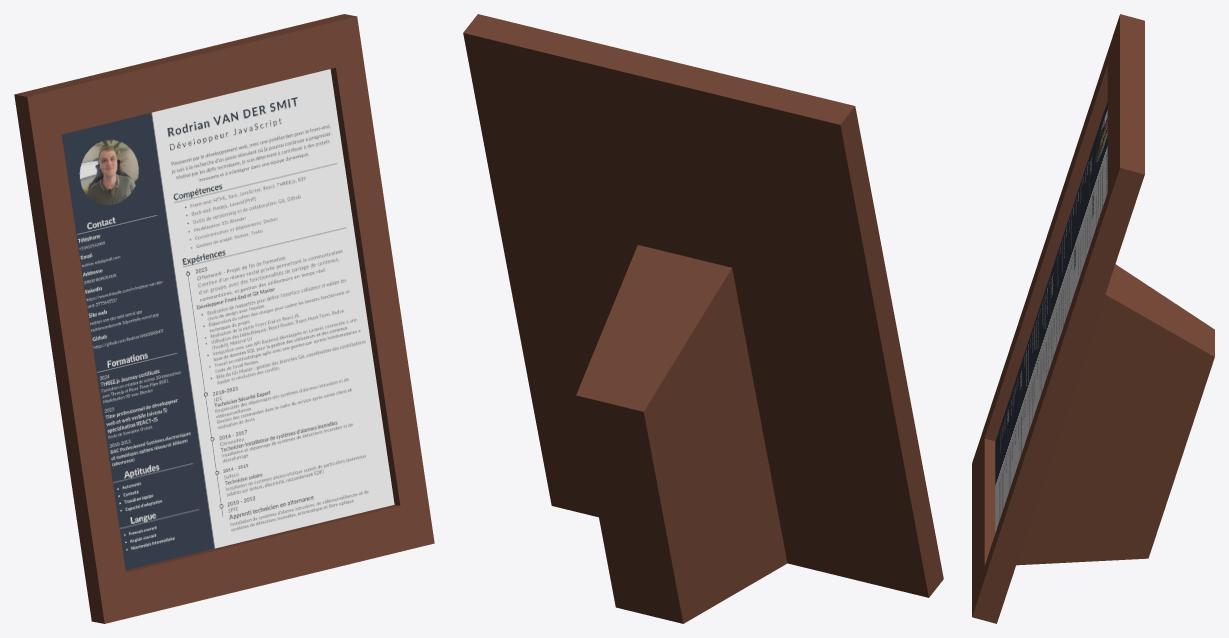
Rendered from RoroRoomCVPainting.glb.
3 views of the same model, side by side, from view 1: azimuth 30°, elevation 25°; view 2: azimuth 150°, elevation 25°; view 3: azimuth 270°, elevation 25° (orthographic). The views are drawn at different scales.
Visible parts, largest first — view 1: Cube.007; view 2: Cube.007; view 3: Cube.007.
Boxes of the visible parts, <box> form: Cube.007: <box>14,14,434,623</box>; Cube.007: <box>463,14,943,623</box>; Cube.007: <box>972,14,1214,623</box>.
Size of the model in its own units: 0.6685 by 0.9242 by 0.4459.
Materials: 2 (1 with a texture image).
